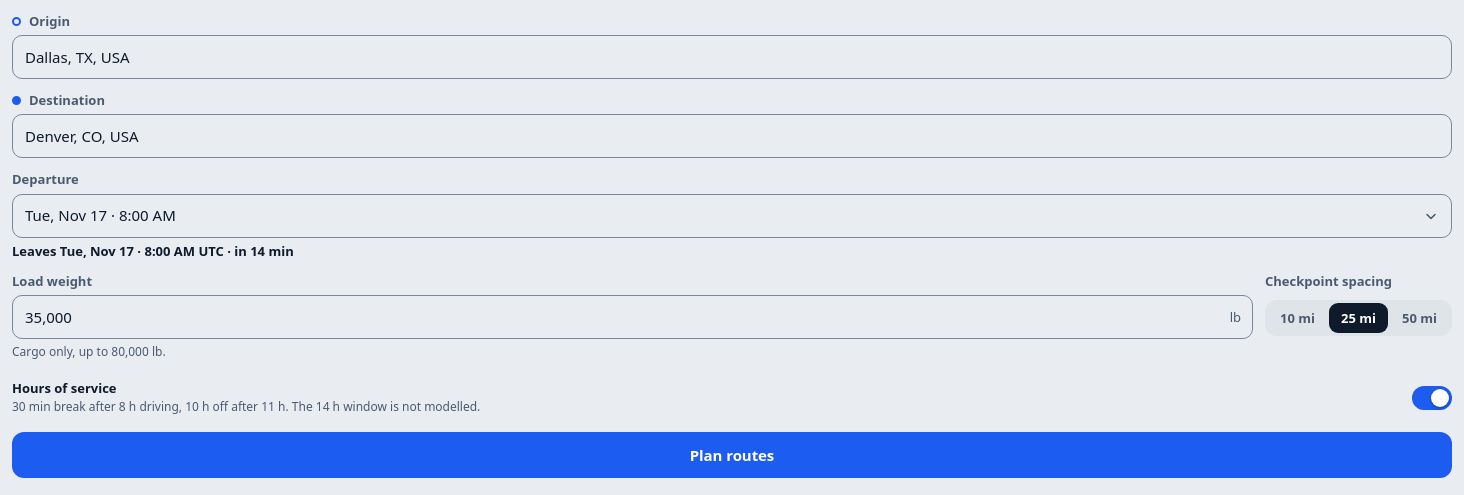
Test: PlanForm › changes the checkpoint interval
Click the radio button labelled "10 mi". click: (1298, 318)
box: [1268,303,1327,333]
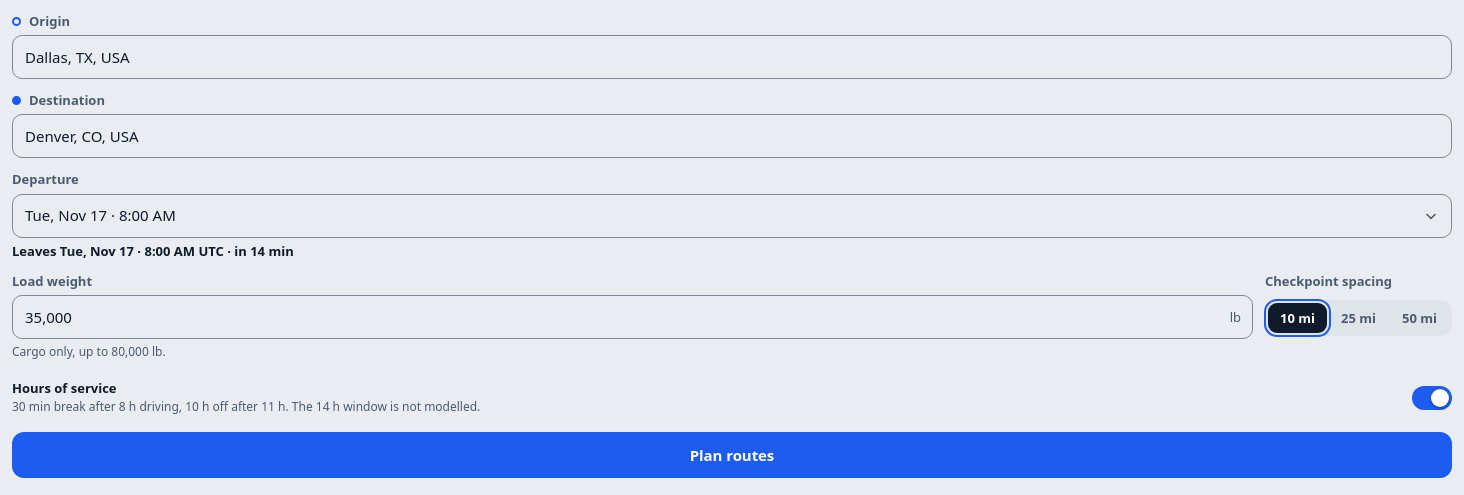
Now the radio button labelled "10 mi" is checked, box [1268,303,1327,333]
